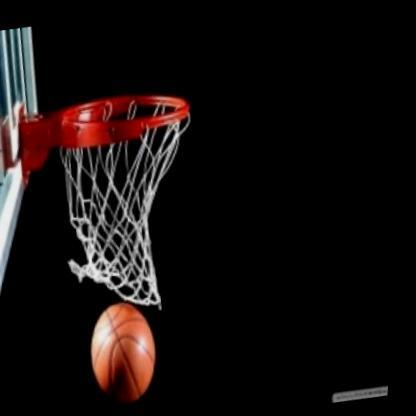basketball: (83, 292, 175, 408)
rim: (0, 46, 240, 342)
